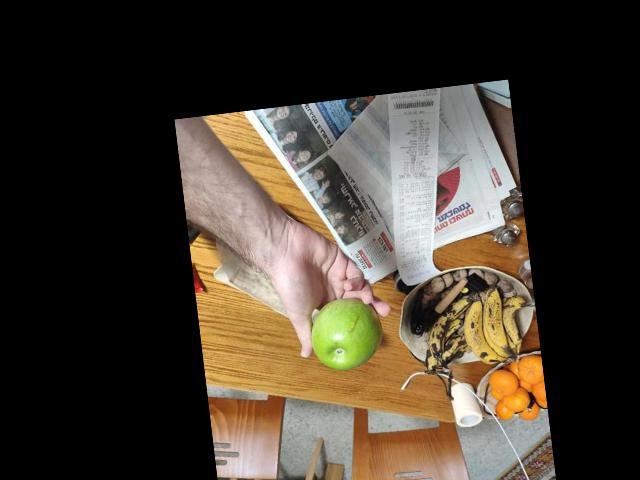apple: (305, 290, 389, 380)
